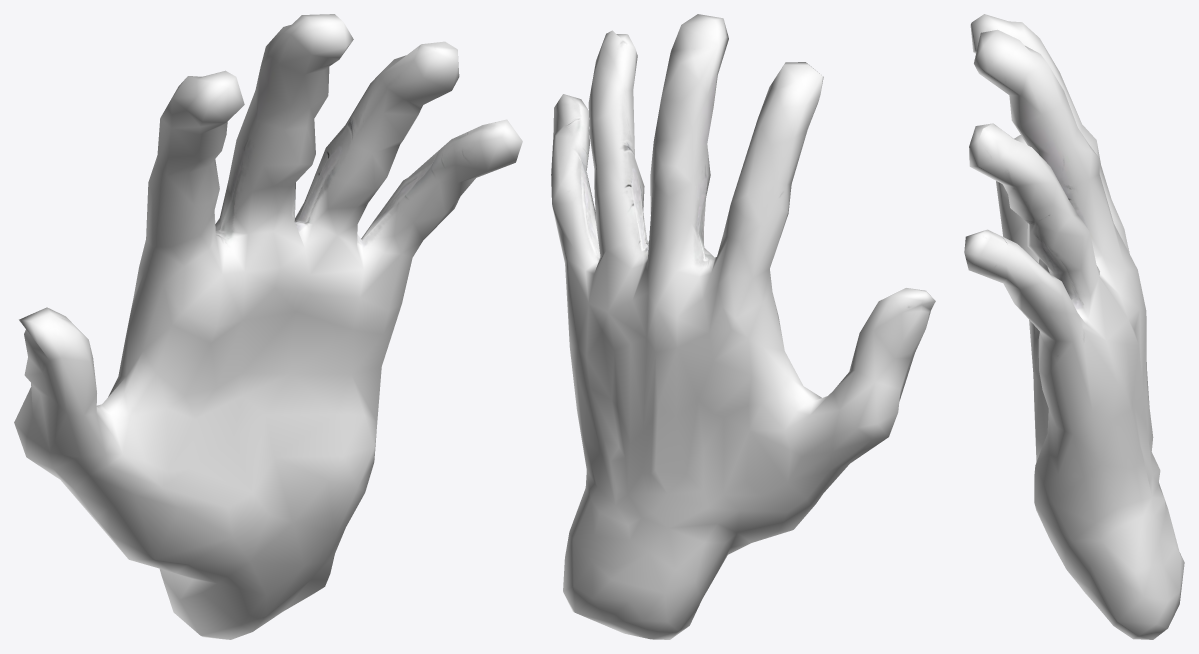
3 views of the same model, side by side, from view 1: azimuth 30°, elevation 25°; view 2: azimuth 150°, elevation 25°; view 3: azimuth 270°, elevation 25° (orthographic). The views are drawn at different scales.
Visible parts, largest first — view 1: Mesh1; view 2: Mesh1; view 3: Mesh1.
Boxes of the visible parts, x1,y1,x2,y2 form: Mesh1: (14, 14, 522, 639); Mesh1: (551, 14, 935, 639); Mesh1: (964, 14, 1184, 639).
Bounding box in the file's own units: 146 × 200 × 67.65.
1 material, 1 textured.
